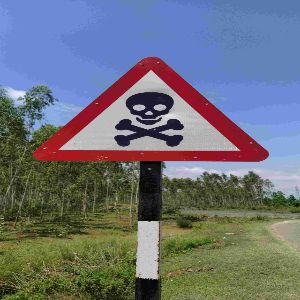Accident prone area: (25, 53, 275, 174)
